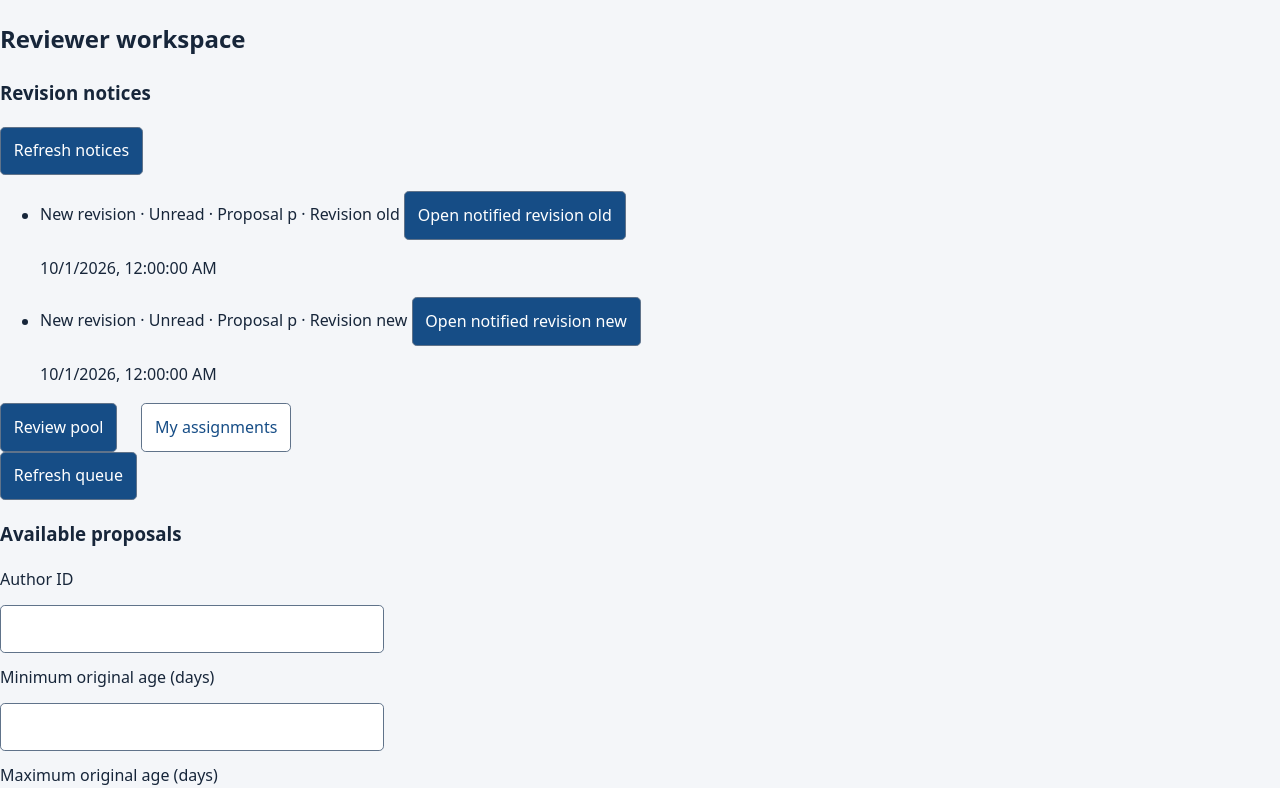
Test: freezes an acknowledgement race without discarding the displayed revision
This screenshot has width=1280, height=788.
Click the button "Open notified revision old": [515, 215] box x1=404 y1=191 x2=626 y2=240
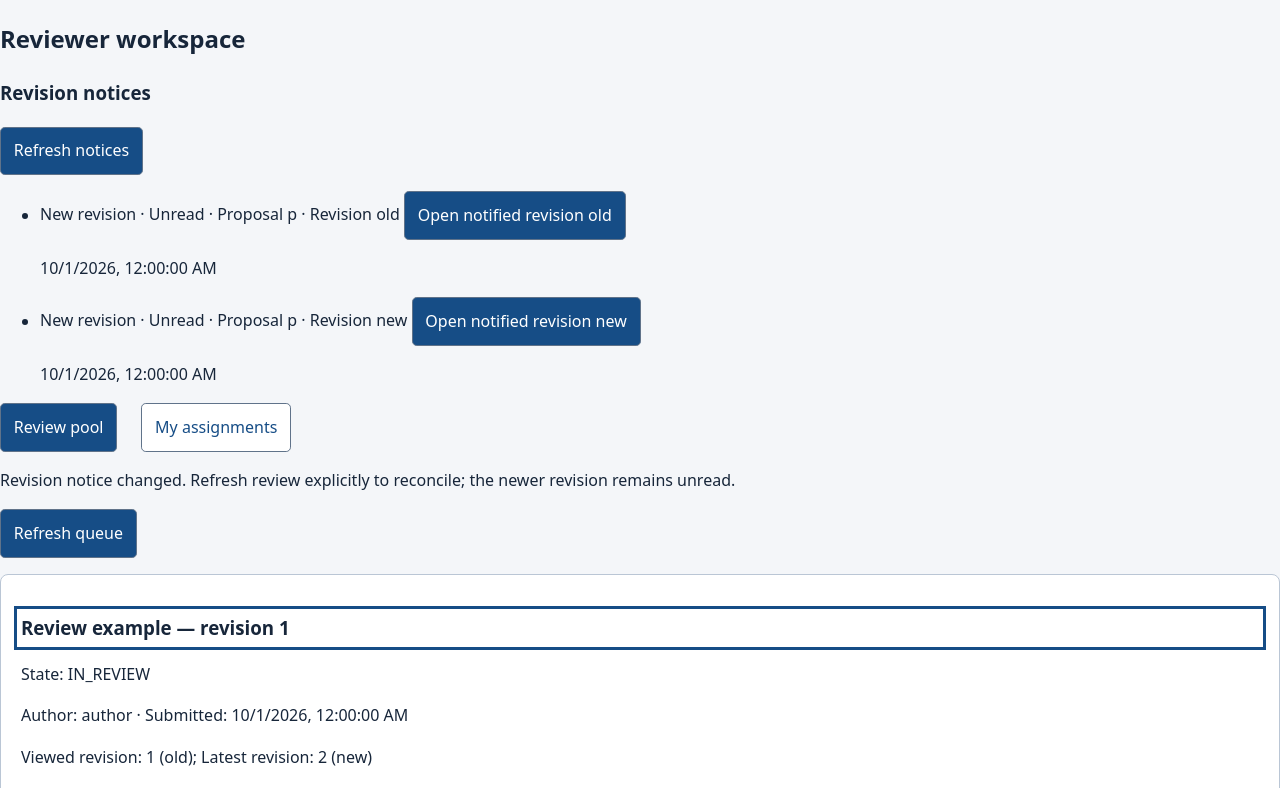
expect the text "New revision · Unread · Proposal p · Revision new" is shown: met, box x1=40 y1=310 x2=407 y2=332
expect the text "Revision notice changed" is shown: met, box x1=0 y1=468 x2=735 y2=490
